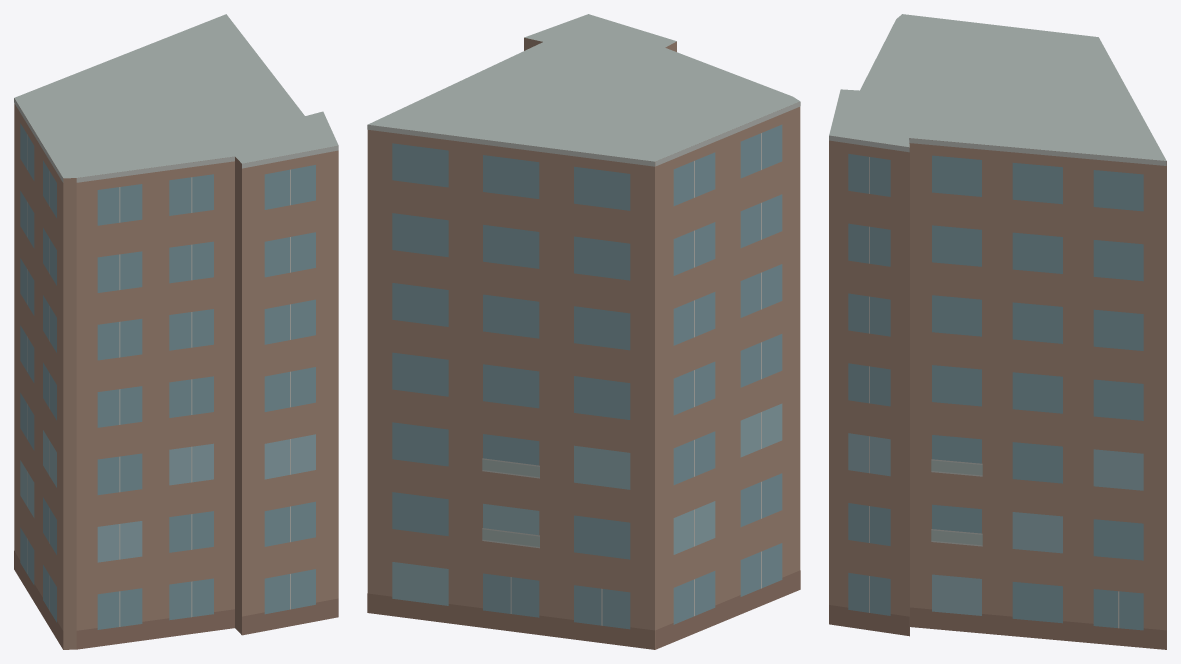
Rendered from survey-upis-32991020.glb.
3 renders of one model, left to right at view 1: azimuth 30°, elevation 25°; view 2: azimuth 150°, elevation 25°; view 3: azimuth 270°, elevation 25°, orthographic. The views are drawn at different scales.
Visible parts, largest first — view 1: survey-upis-32991020.tmp; view 2: survey-upis-32991020.tmp; view 3: survey-upis-32991020.tmp.
Part boxes in pixels (x1,y1,x2,y2): survey-upis-32991020.tmp: (14,14,338,649); survey-upis-32991020.tmp: (367,14,800,649); survey-upis-32991020.tmp: (829,14,1166,649).
Size of the model in its own units: 15.3 by 23.7 by 14.85.
